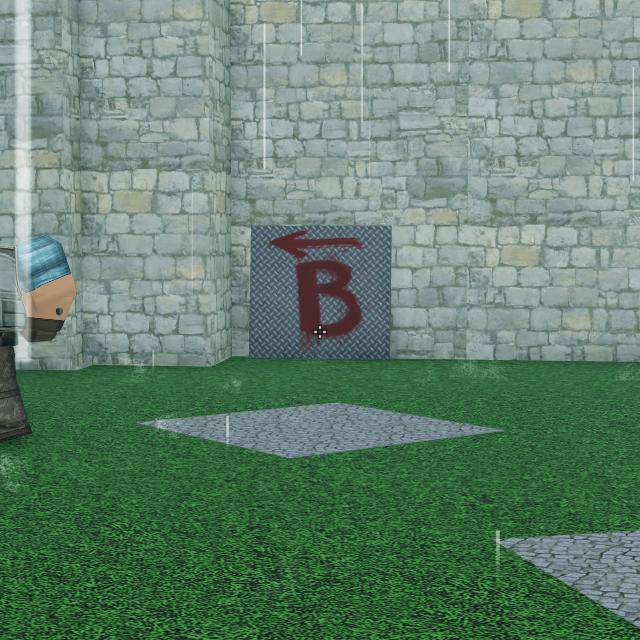Player: (0, 234, 78, 442)
